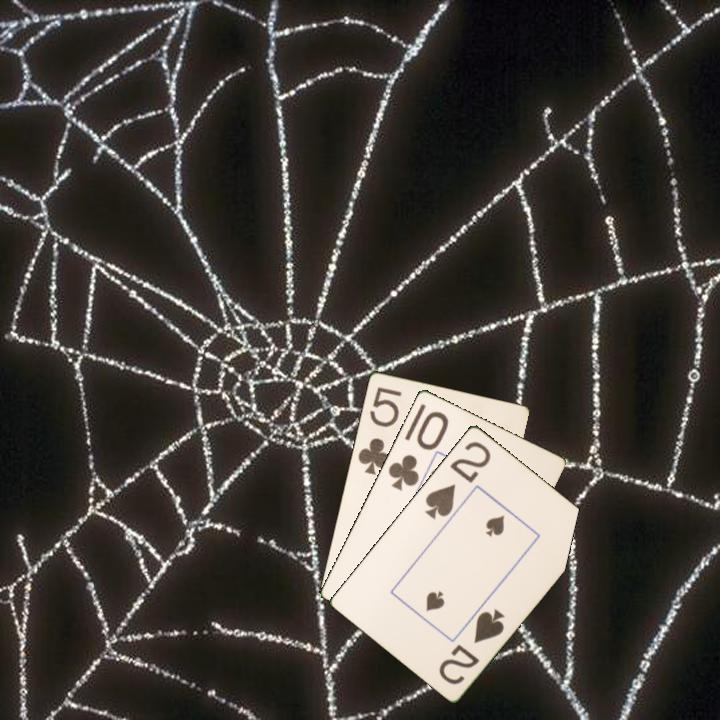10c: (384, 407, 451, 493)
2s: (421, 437, 494, 522), (435, 604, 508, 687)
5c: (354, 383, 404, 478)
